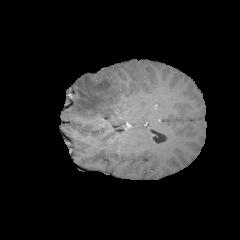glioma: (68, 68, 123, 131)
